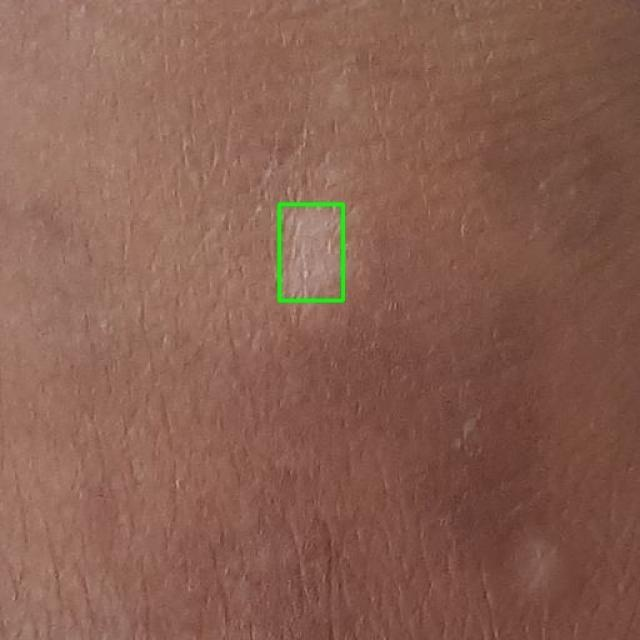Eczema: (279, 204, 342, 300)
